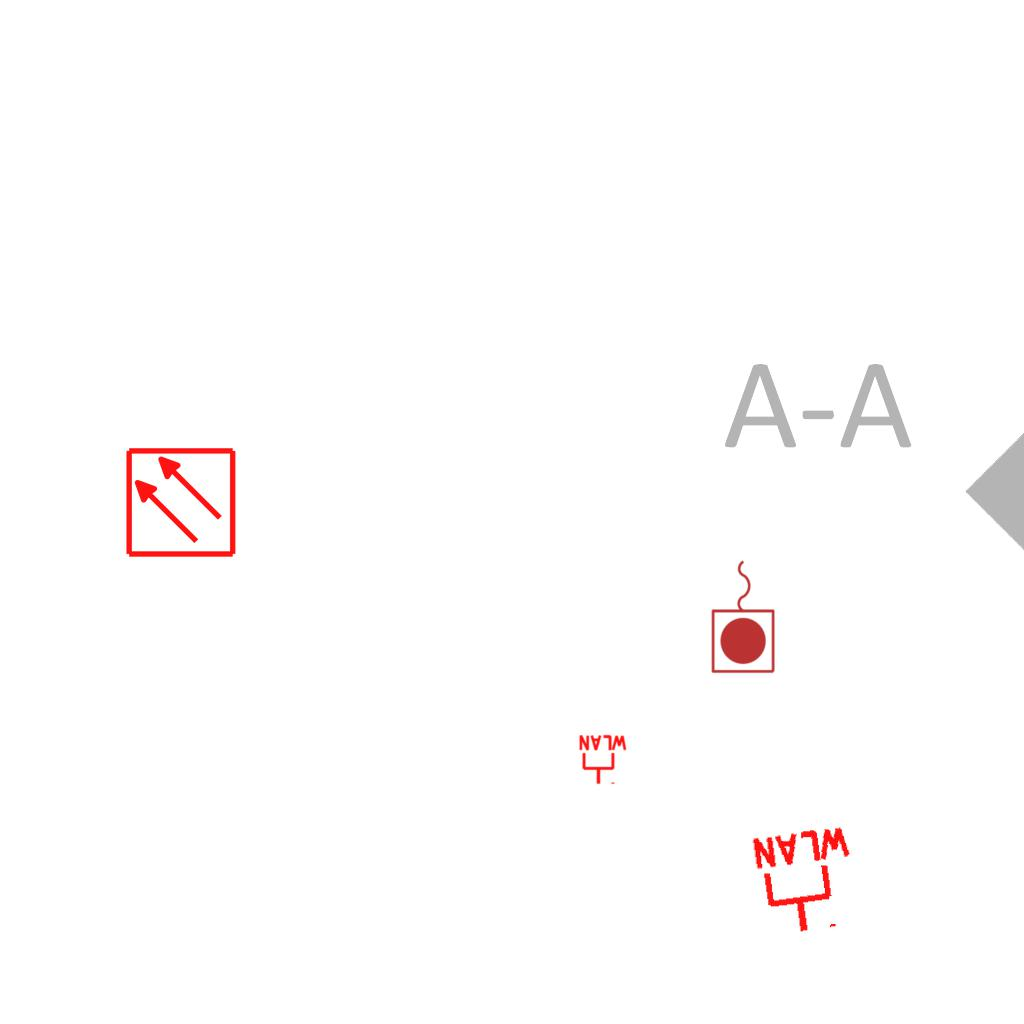RMO_Rauchmelder_optischer: (124, 446, 237, 559)
WLAN: (747, 822, 866, 942), (577, 734, 629, 786)
Zugtaster: (708, 555, 780, 677)
